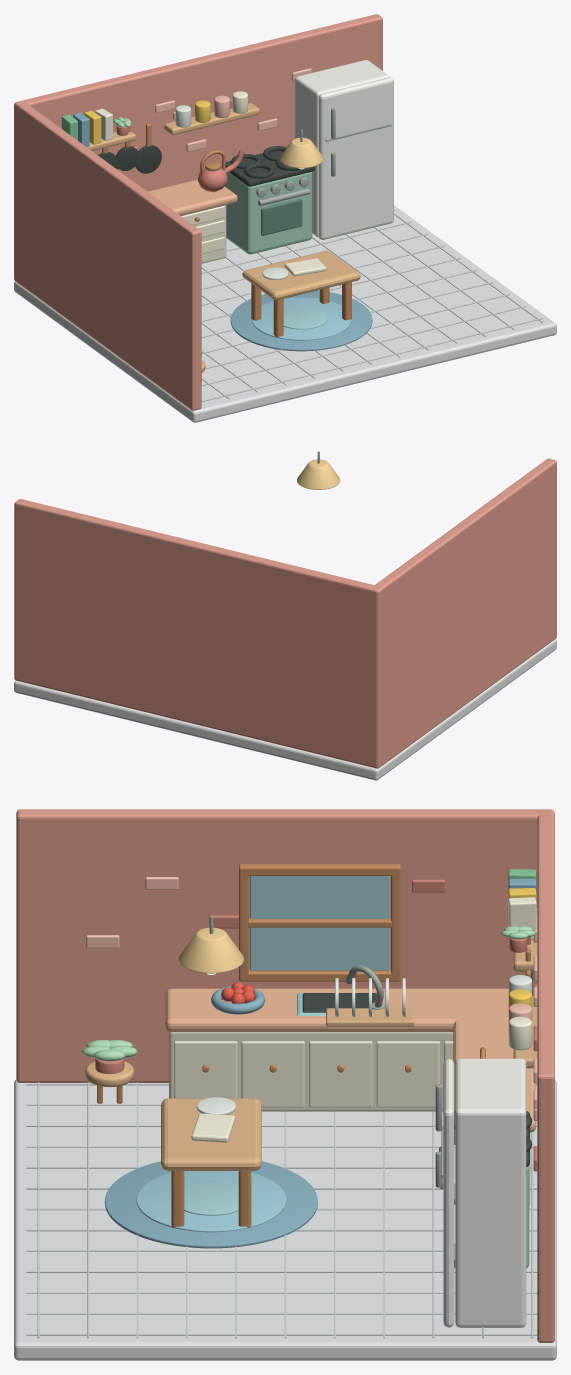
Rendered from Kitchen-Home-rebuilt-lighting.glb.
The picture shows the model from 3 angles, top to bottom: view 1: azimuth 30°, elevation 25°; view 2: azimuth 150°, elevation 25°; view 3: azimuth 270°, elevation 25°; orthographic projection. The views are drawn at different scales.
Parts seen in each view (by area): view 1: Left_Wall, Floor_Base, Back_Wall, Fridge_Door, Stove_Body, Rug_Outer, Dining_Table_Top, Rug_Middle, Fridge_Left_Wall, Back_Countertop, Fridge_Top, Dining_Table (+11 smaller); view 2: Back_Wall, Left_Wall, Floor_Base, Ceiling_Lamp_Shade; view 3: Floor_Base, Left_Wall, Fridge_Right_Wall, Window_Glass, Left_Countertop, Back_Wall, Rug_Outer, Dining_Table_Top, Left_Cabinets_Body, Rug_Middle, Left_Cabinets_Door_3, Left_Cabinets_Door_4 (+28 smaller).
Part boxes in pixels (<box>): Left_Wall: <box>14,101,201,410</box>; Floor_Base: <box>14,205,556,422</box>; Back_Wall: <box>16,14,382,191</box>; Fridge_Door: <box>319,77,393,239</box>; Stove_Body: <box>225,172,312,254</box>; Rug_Outer: <box>230,290,372,351</box>; Dining_Table_Top: <box>242,250,360,300</box>; Rug_Middle: <box>251,297,351,340</box>; Fridge_Left_Wall: <box>294,76,319,237</box>; Back_Countertop: <box>148,179,237,215</box>; Fridge_Top: <box>298,60,387,94</box>; Dining_Table: <box>251,282,351,337</box>; Back_Wall: <box>14,499,380,768</box>; Left_Wall: <box>373,458,556,768</box>; Floor_Base: <box>14,639,556,780</box>; Ceiling_Lamp_Shade: <box>297,459,340,489</box>; Floor_Base: <box>14,1079,556,1360</box>; Left_Wall: <box>16,809,552,1082</box>; Fridge_Right_Wall: <box>455,1109,526,1327</box>; Window_Glass: <box>250,876,389,970</box>; Left_Countertop: <box>165,988,508,1031</box>; Back_Wall: <box>537,810,554,1342</box>; Rug_Outer: <box>104,1161,317,1248</box>; Dining_Table_Top: <box>161,1098,261,1170</box>; Left_Cabinets_Body: <box>169,1031,453,1111</box>; Rug_Middle: <box>136,1171,286,1232</box>; Left_Cabinets_Door_3: <box>309,1041,372,1107</box>; Left_Cabinets_Door_4: <box>376,1041,439,1107</box>.
Size of the model in its own units: 6.41 by 3.42 by 5.5.
